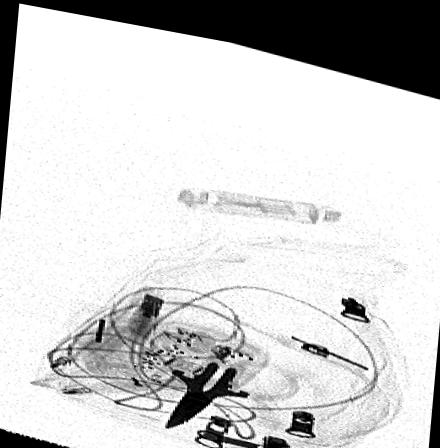Scissors: (135, 312, 305, 428)
